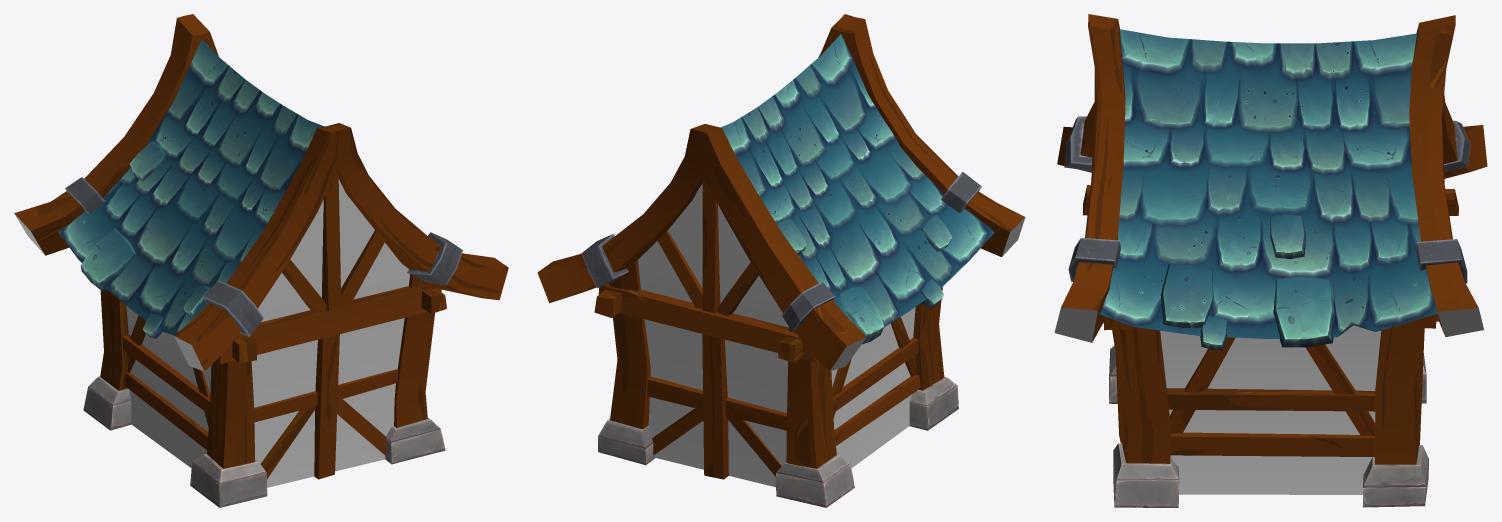
Rendered from SM_BLD_body_v02_02.fbx.
3 renders of one model, left to right at view 1: azimuth 30°, elevation 25°; view 2: azimuth 150°, elevation 25°; view 3: azimuth 270°, elevation 25°, orthographic. The views are drawn at different scales.
Parts seen in each view (by area): view 1: SM_BLD_body_v02_02; view 2: SM_BLD_body_v02_02; view 3: SM_BLD_body_v02_02.
Part boxes in pixels (x1,y1,x2,y2): SM_BLD_body_v02_02: [14, 14, 508, 507]; SM_BLD_body_v02_02: [537, 14, 1025, 507]; SM_BLD_body_v02_02: [1054, 14, 1487, 507].
Bounding box in the file's own units: 791 × 847 × 788.
